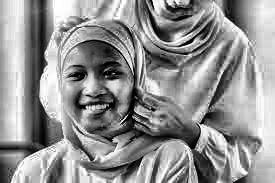happy: (62, 28, 137, 141)
